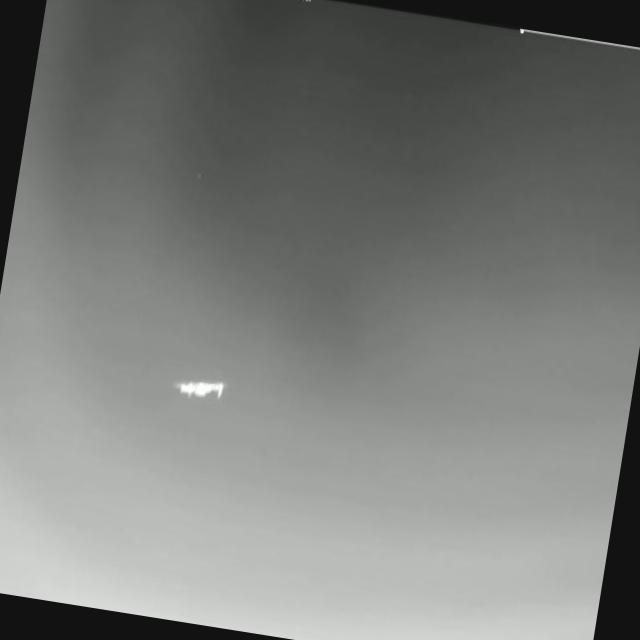DRONE: (161, 364, 236, 416)
